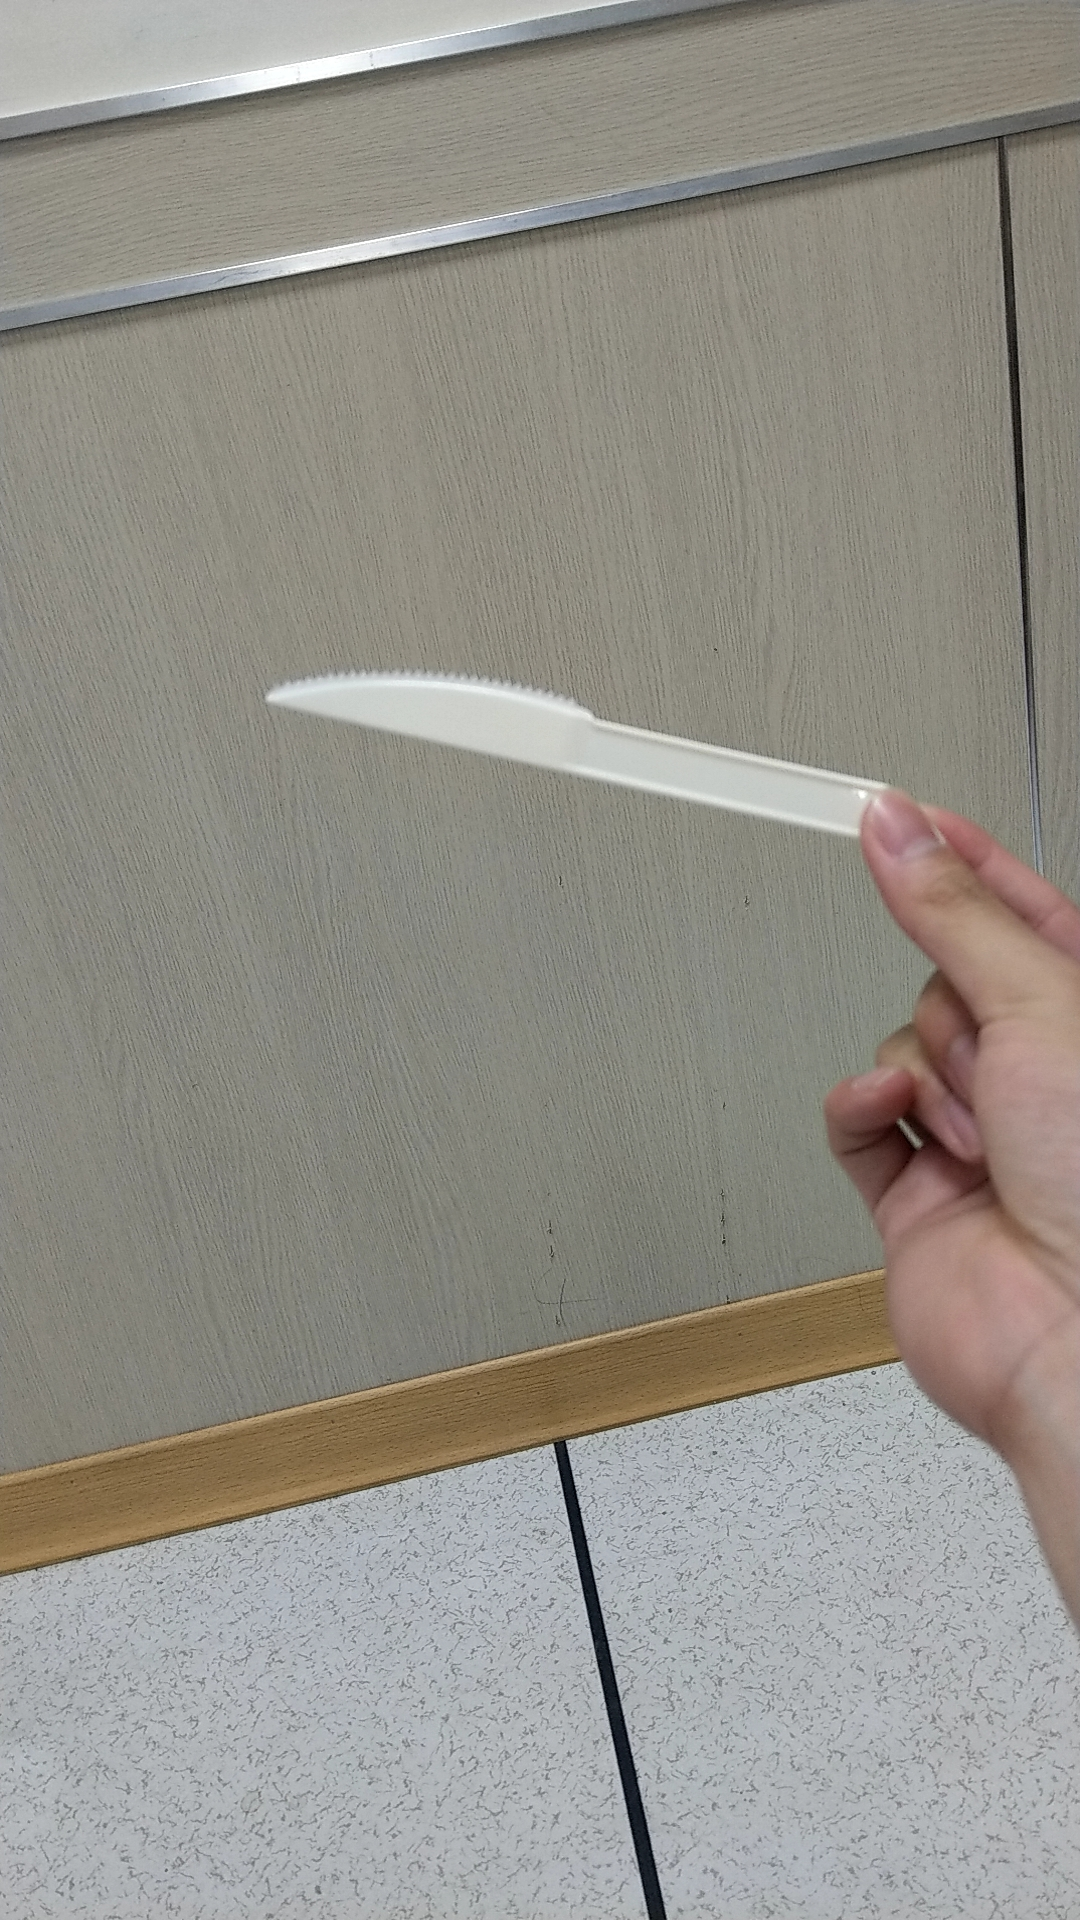knife: (255, 615, 884, 855)
